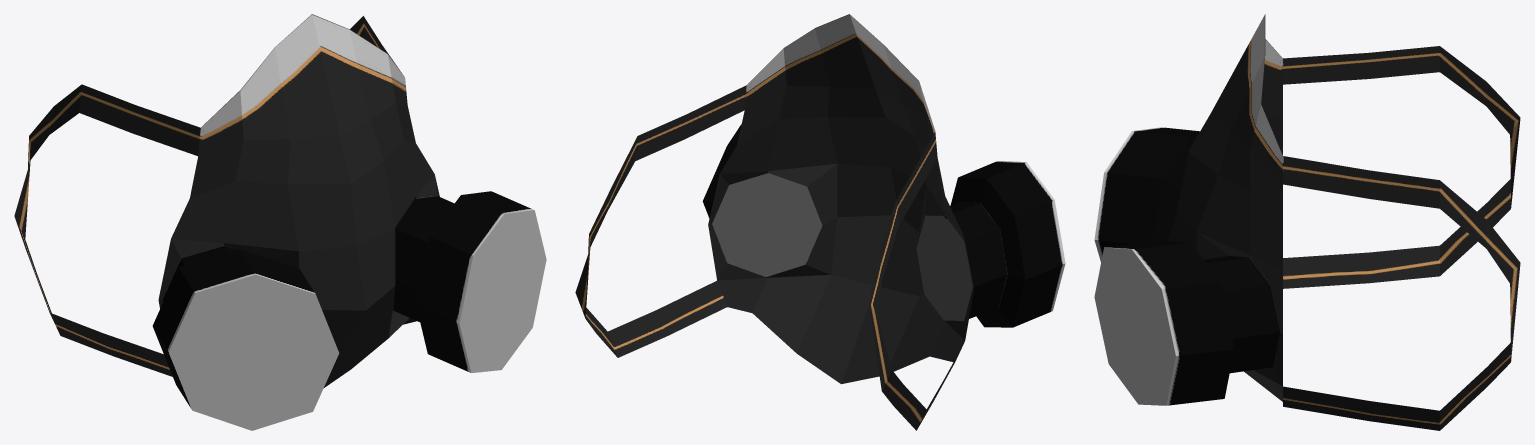
The model's file is tapabocas alta calidad.fbx.
3 views of the same model, side by side, from view 1: azimuth 30°, elevation 25°; view 2: azimuth 150°, elevation 25°; view 3: azimuth 270°, elevation 25° (orthographic). The views are drawn at different scales.
Visible parts, largest first — view 1: Plane; view 2: Plane; view 3: Plane.
Boxes of the visible parts, x1=… form: Plane: x1=14, y1=14, x2=546, y2=430; Plane: x1=575, y1=14, x2=1065, y2=430; Plane: x1=1094, y1=14, x2=1520, y2=430.
Bounding box in the file's own units: 23.58 × 23.58 × 23.58.
1 material, 1 textured.
